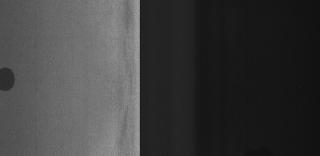oil spot: (1, 60, 23, 96)
